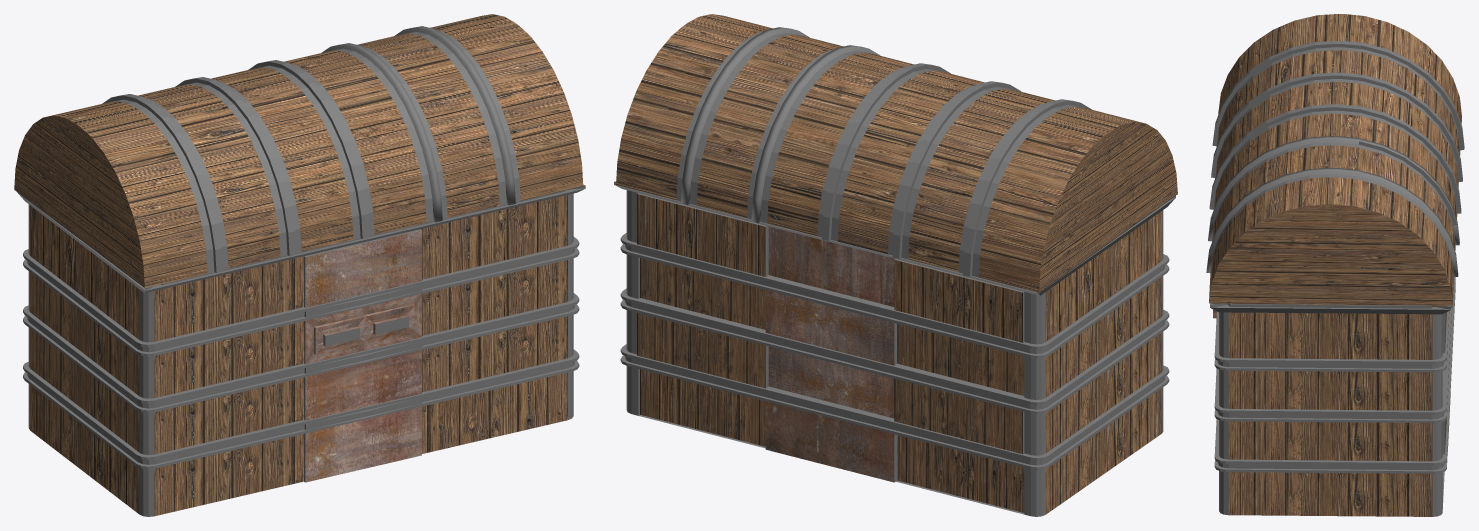
File: Cofre.obj
3 views of the same model, side by side, from view 1: azimuth 30°, elevation 25°; view 2: azimuth 150°, elevation 25°; view 3: azimuth 270°, elevation 25° (orthographic). The views are drawn at different scales.
Parts seen in each view (by area): view 1: pasted__Cylinder; view 2: pasted__Cylinder; view 3: pasted__Cylinder.
Part boxes in pixels (x1=…): pasted__Cylinder: x1=14, y1=14, x2=585, y2=516; pasted__Cylinder: x1=614, y1=14, x2=1177, y2=516; pasted__Cylinder: x1=1206, y1=14, x2=1464, y2=516.
Size of the model in its own units: 0.7372 by 0.5598 by 0.4152.
Materials: 6 (3 with a texture image).
